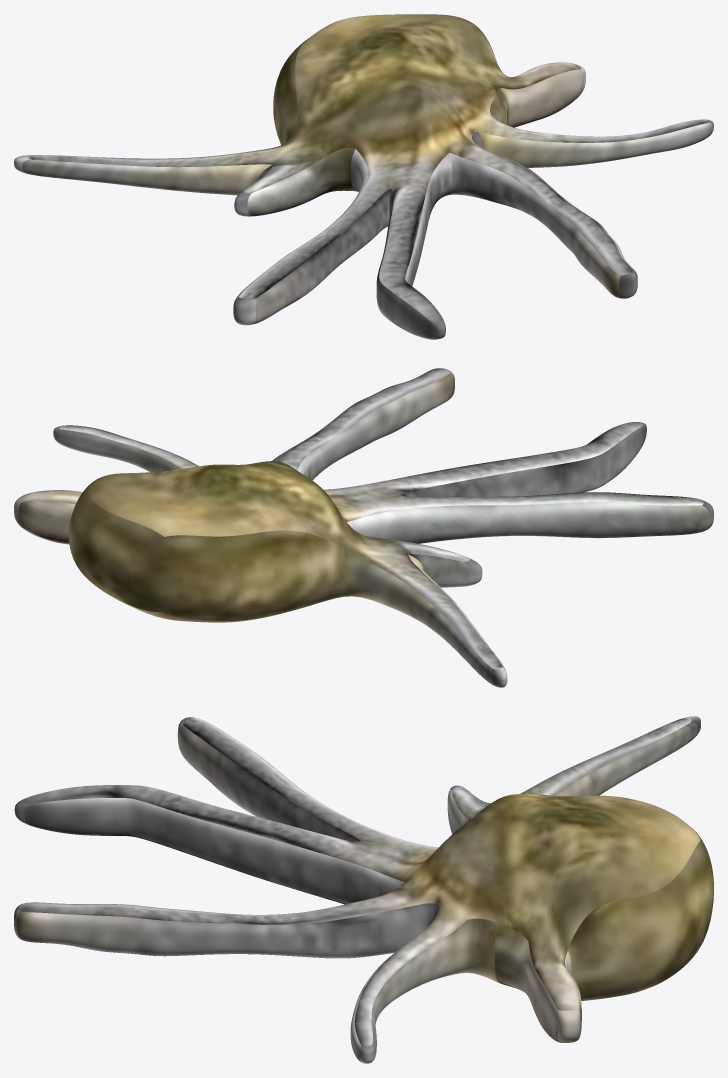
Rendered from biltong.glb.
3 renders of one model, top to bottom at view 1: azimuth 30°, elevation 25°; view 2: azimuth 150°, elevation 25°; view 3: azimuth 270°, elevation 25°, orthographic. The views are drawn at different scales.
Parts seen in each view (by area): view 1: biltong; view 2: biltong; view 3: biltong.
Boxes of the visible parts, x1=… form: biltong: x1=14, y1=14, x2=713, y2=339; biltong: x1=14, y1=368, x2=713, y2=687; biltong: x1=14, y1=716, x2=713, y2=1063.
Bounding box in the file's own units: 2218 × 409 × 1956.
Materials: 1 (1 with a texture image).
